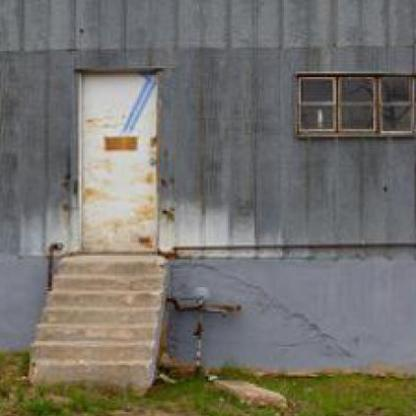stair_up: (33, 248, 167, 388)
